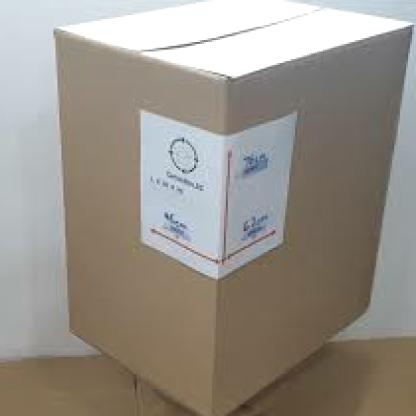label: (140, 110, 298, 281)
package: (52, 1, 414, 416)
